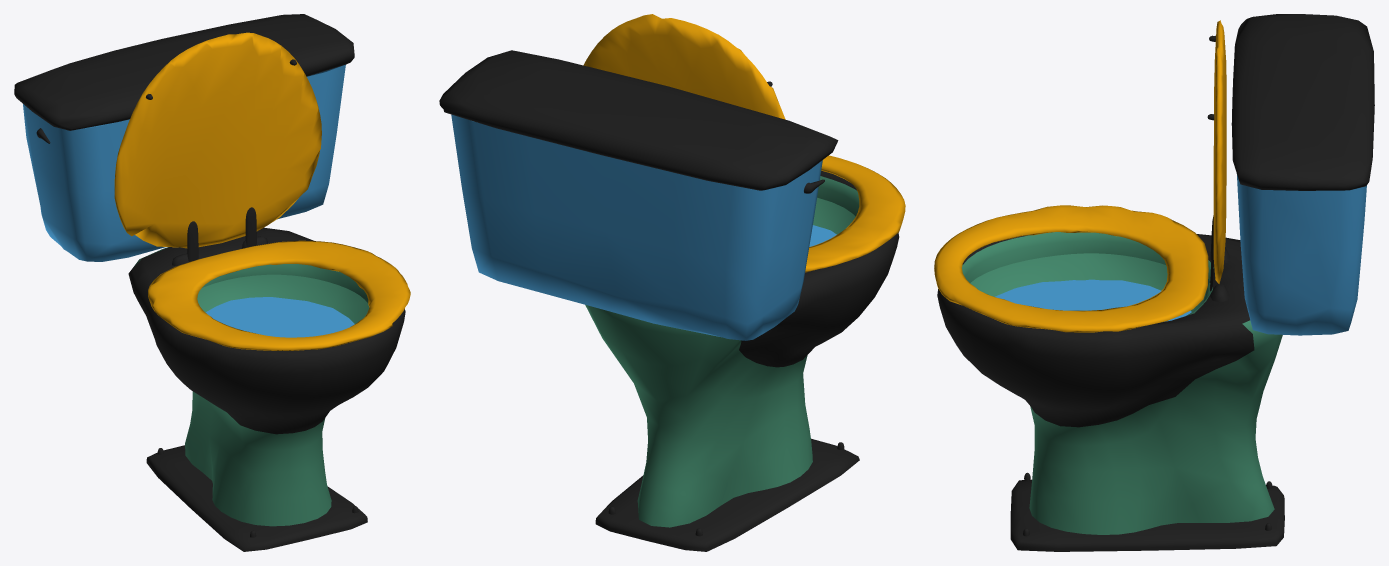
The model's file is toilet_01.glb.
3 views of the same model, side by side, from view 1: azimuth 30°, elevation 25°; view 2: azimuth 150°, elevation 25°; view 3: azimuth 270°, elevation 25° (orthographic). The views are drawn at different scales.
Visible parts, largest first — view 1: toilet_01; view 2: toilet_01; view 3: toilet_01.
Part boxes in pixels (x1,y1,x2,y2): toilet_01: (14, 14, 410, 551); toilet_01: (439, 14, 905, 551); toilet_01: (934, 14, 1374, 551).
Size of the model in its own units: 0.8117 by 1.1 by 0.9061.
